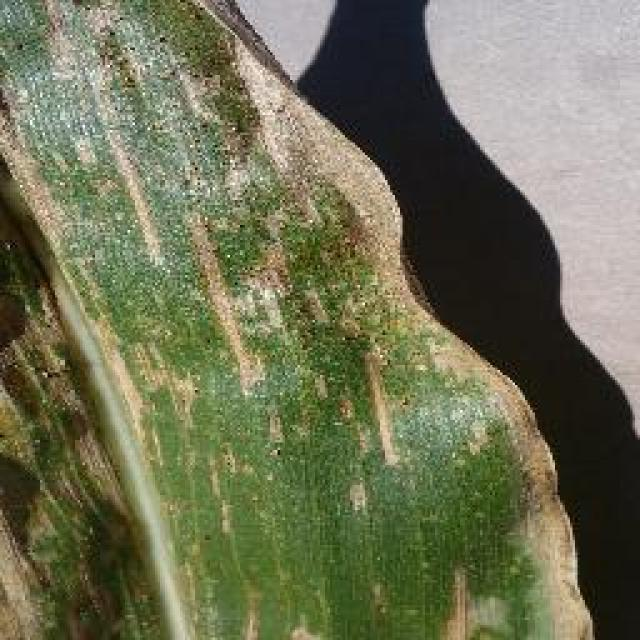Corn___Cercospora_leaf_spot Gray_leaf_spot: (0, 2, 610, 640)
